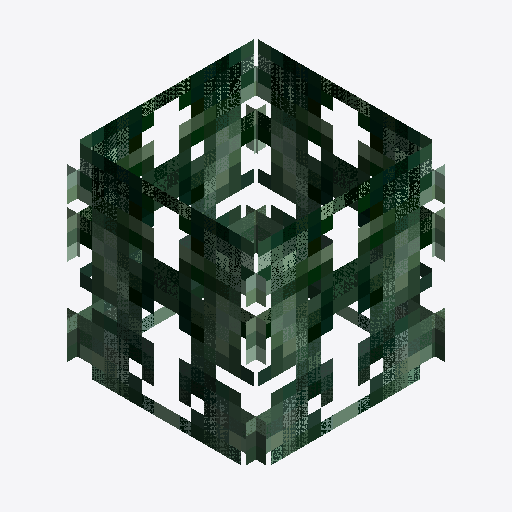
Isometric view (azimuth 45°, elevation 35.3°) of a Minecraft model made of 4 cuboids, textured from the same repository.
Parts seen in each view (by area): element 1, element 3, element 2, element 4.
Boxes of the visible parts, x1=… form: element 1: x1=67, y1=143, x2=265, y2=464; element 3: x1=246, y1=143, x2=444, y2=464; element 2: x1=246, y1=39, x2=444, y2=361; element 4: x1=67, y1=39, x2=265, y2=361.
Size of the model in its own units: 16 by 16 by 16.